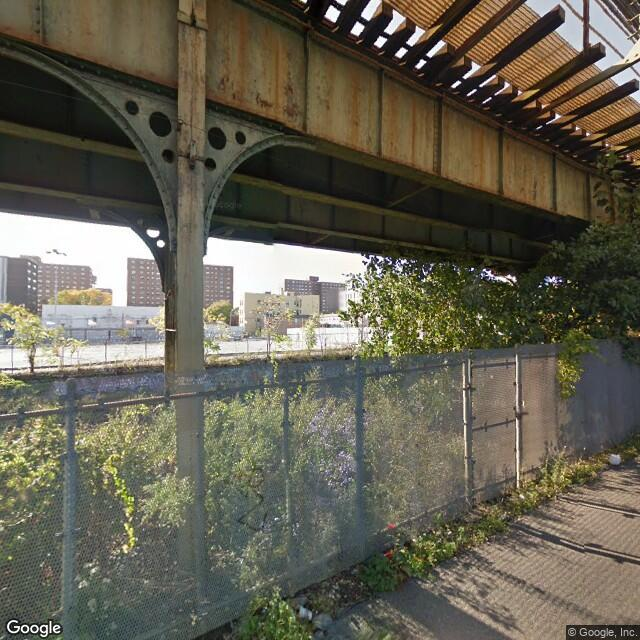litter: (295, 605, 313, 619), (608, 454, 623, 464), (320, 617, 327, 628)
